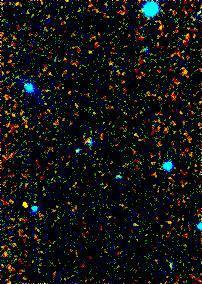star: (9, 190, 39, 220)
